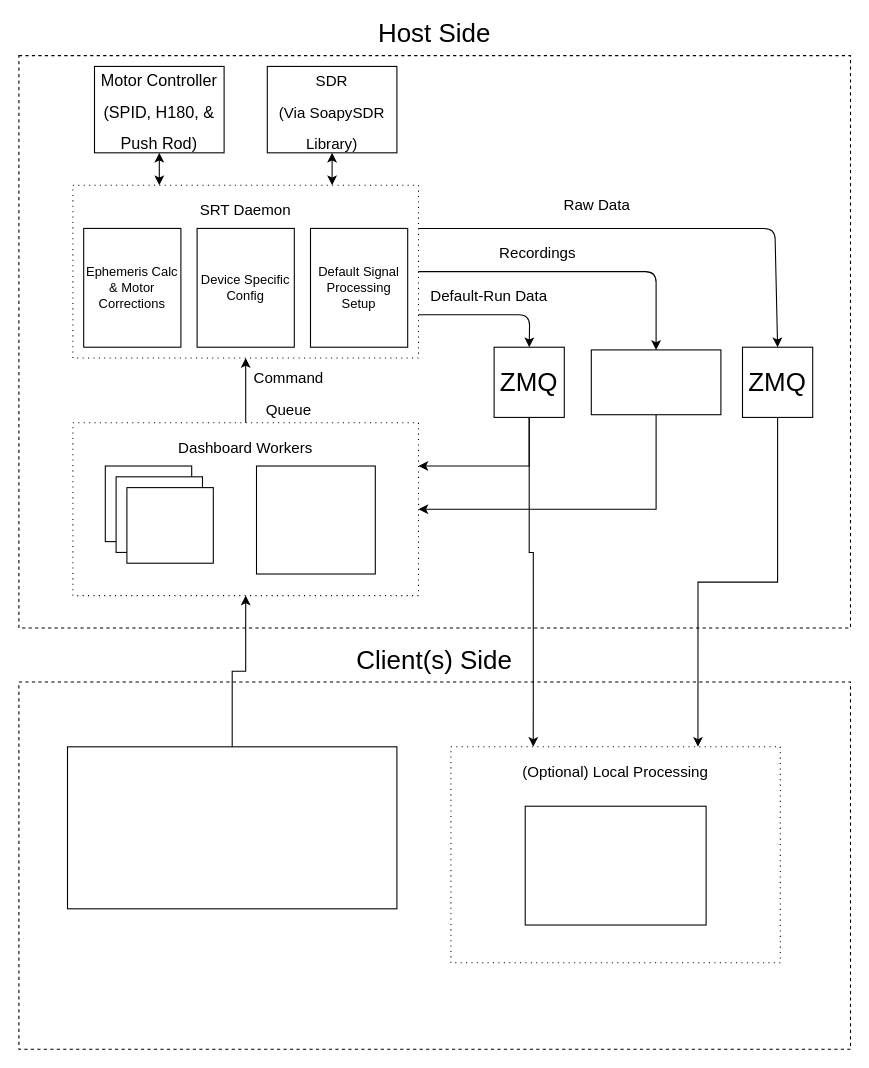
Some shapes in this 869 by 1068 pixel diagram are drawn without their labels. Each missing label, with the centre of its shape:
Filesystem: the point at 655,382
GNU Radio Scripts Library: the point at 615,865
Processed Data Display & Send Commands to Daemon: the point at 315,519
User Browser: the point at 231,827
